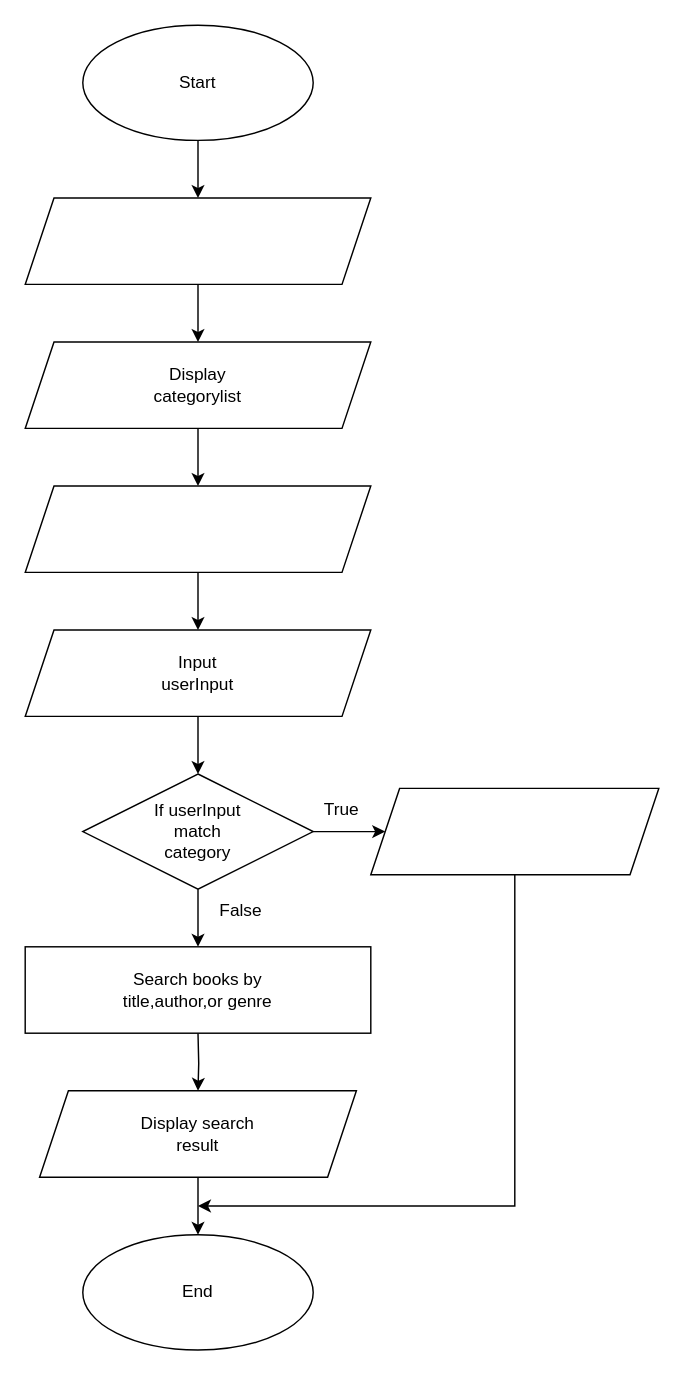
The diagram is 684 pixels wide and 1375 high, and some of its shapes have lost their labels. Here are the shapes that lost their labels. From the top down, the box of each, then its label:
(24, 197, 371, 284): Display "Book Categories"
(24, 485, 371, 572): Display "Enter category or search keyword : "
(369, 787, 659, 875): Display books from selected category
